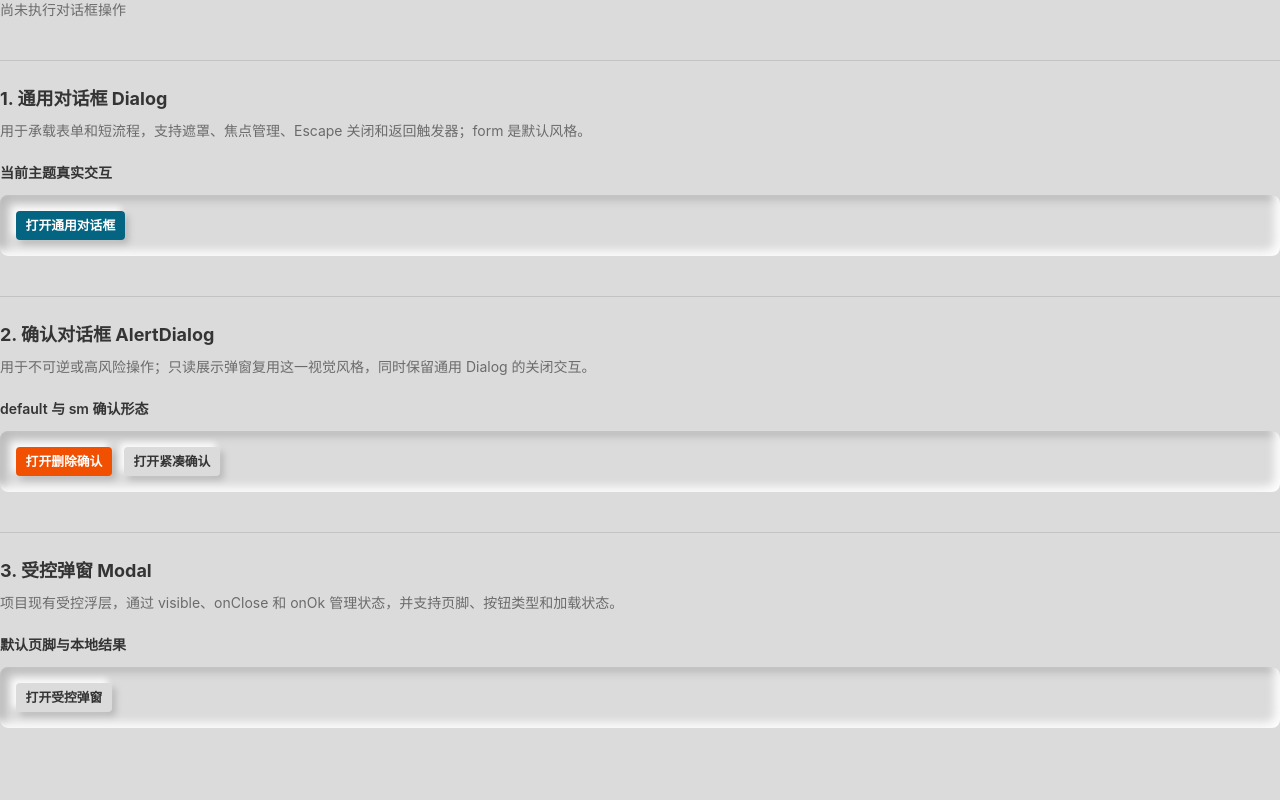
Test: DialogDemo › opens and confirms the accessible dialogs
Click the button "打开通用对话框". click: (70, 226)
box: top-left (16, 211), bottom-right (125, 240)
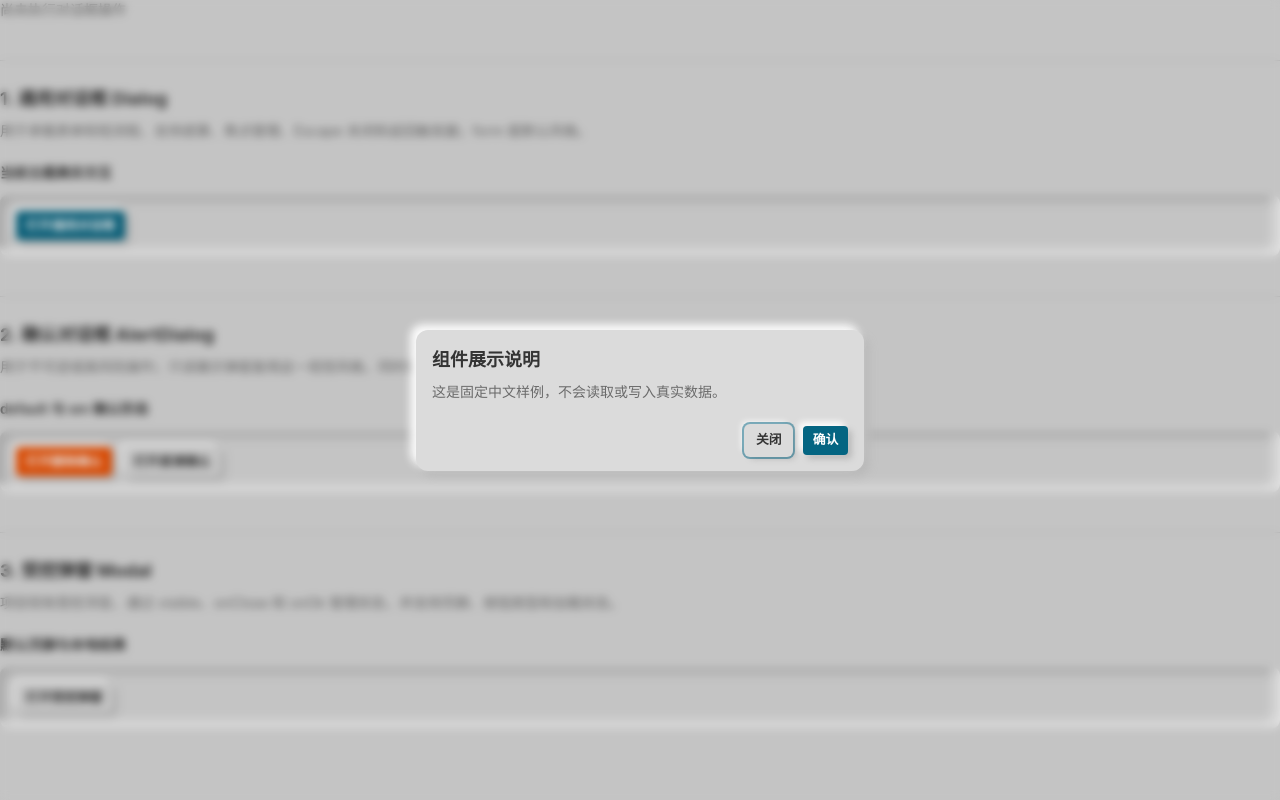
Check: the heading "组件展示说明" is shown, box top-left (432, 348), bottom-right (540, 370)
Click the button "确认". click: (826, 440)
box: top-left (803, 426), bottom-right (848, 454)
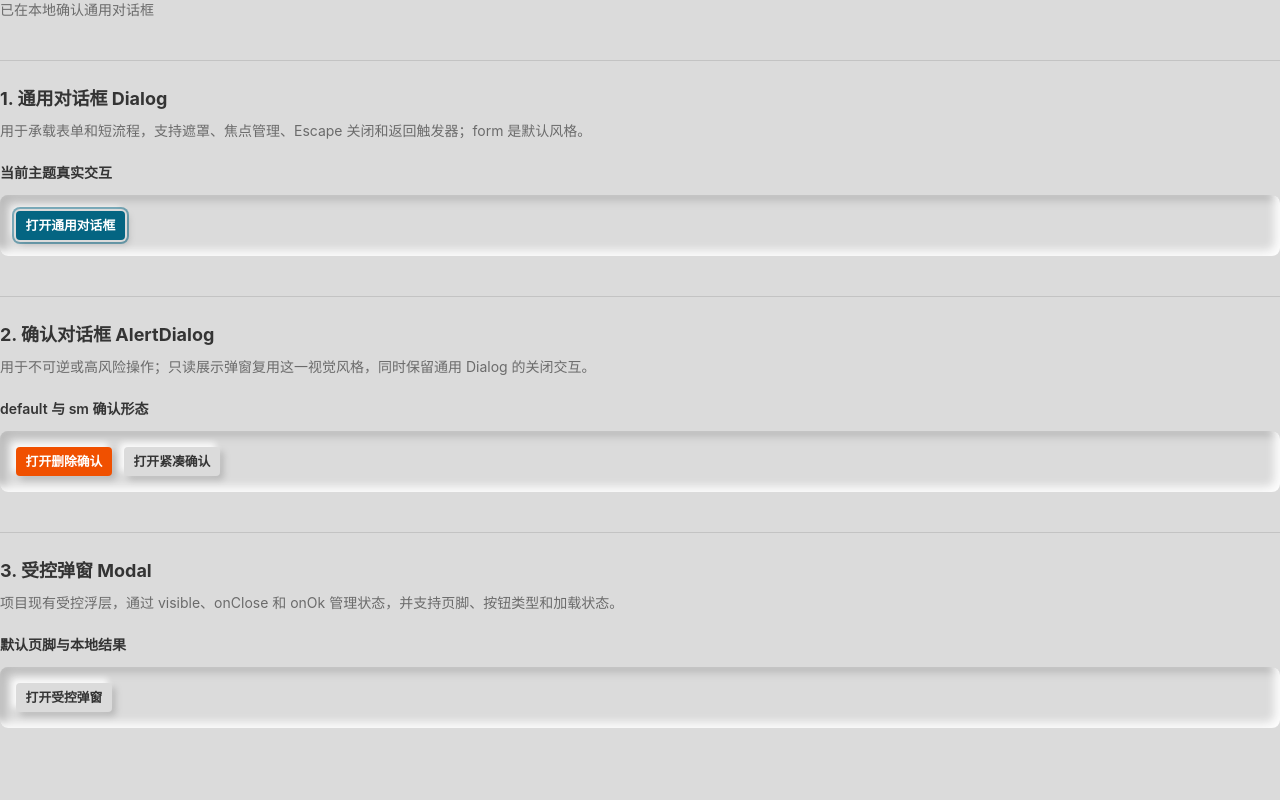
Check: the dialog is gone
Check: the text "已在本地确认通用对话框" is shown, box top-left (0, 1), bottom-right (154, 18)
Click the button "打开删除确认". click: (64, 462)
box: top-left (16, 447), bottom-right (112, 476)
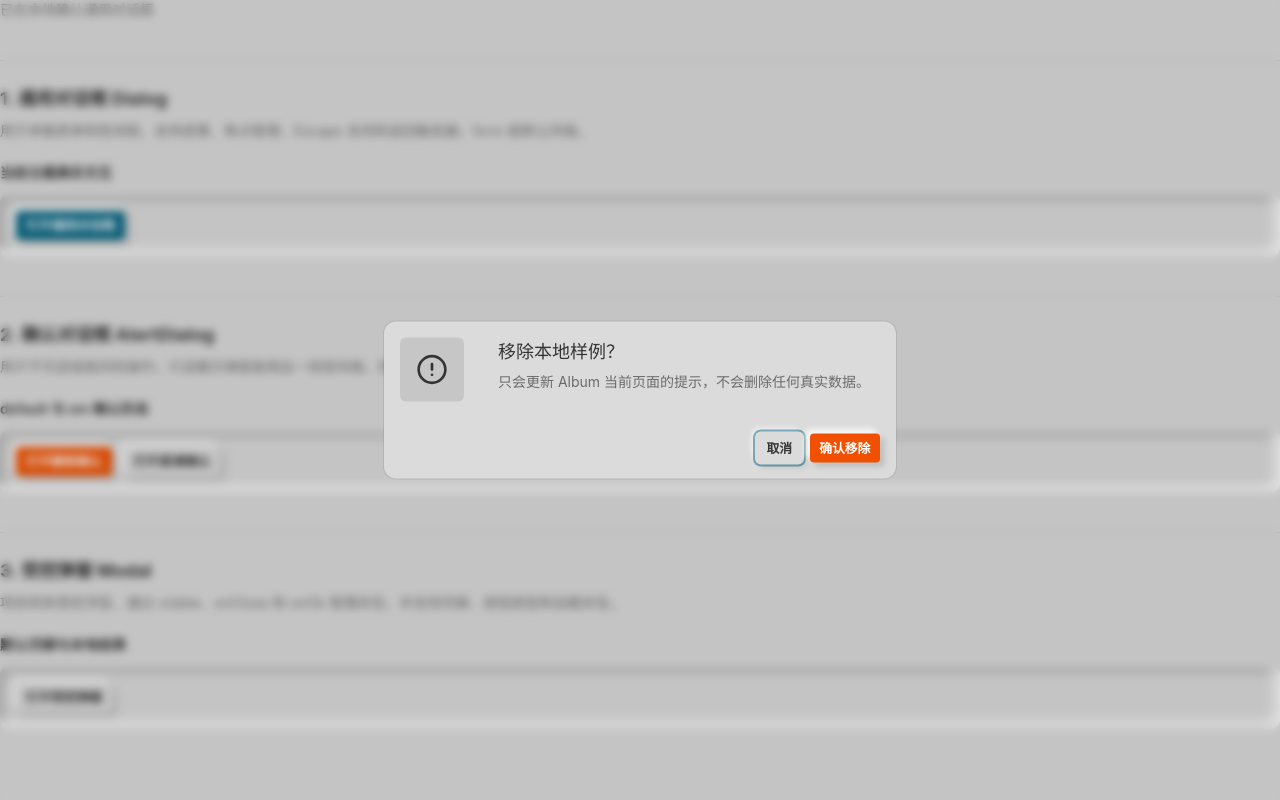
Click the button "确认移除". click: (845, 448)
box: top-left (810, 434), bottom-right (880, 462)
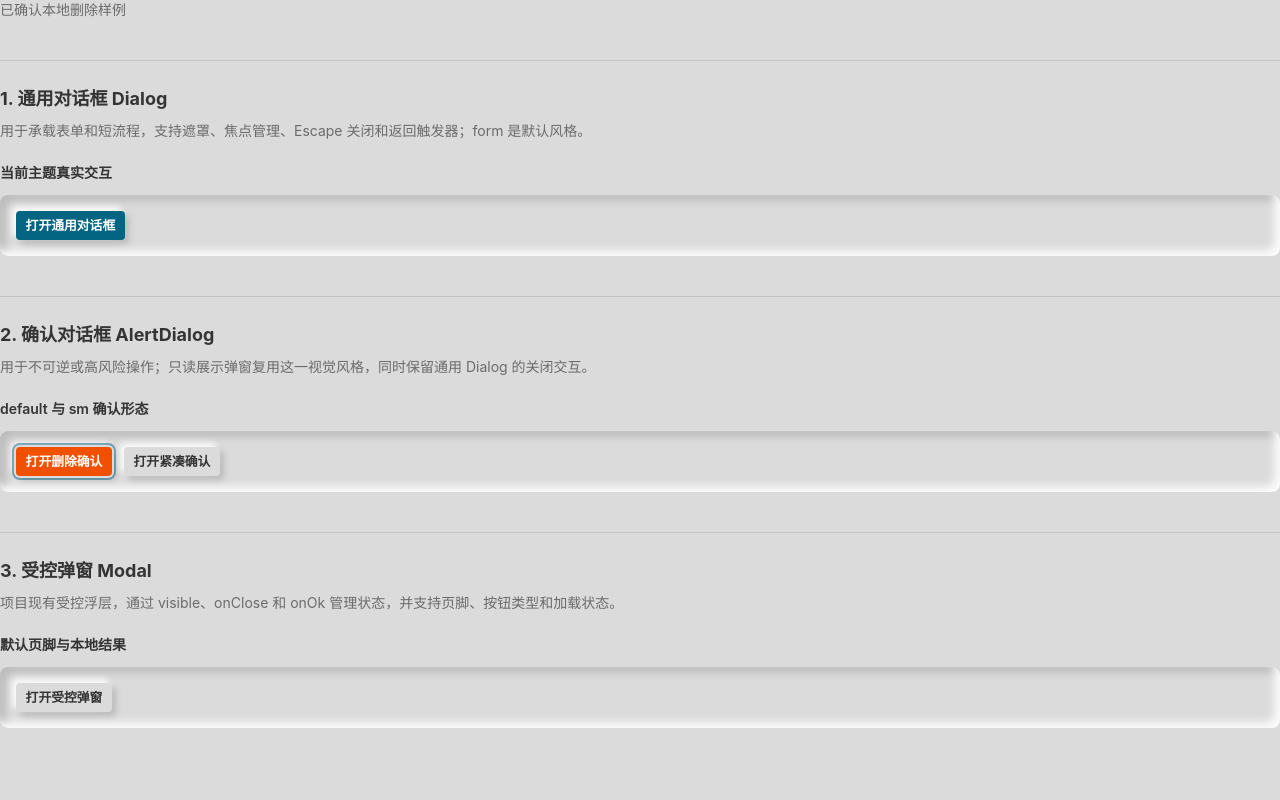
Check: the text "已确认本地删除样例" is shown, box top-left (0, 1), bottom-right (126, 18)
